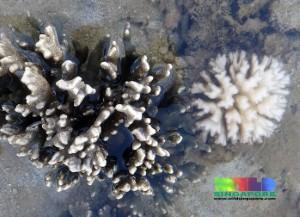bleached_corals: (183, 43, 294, 155)
